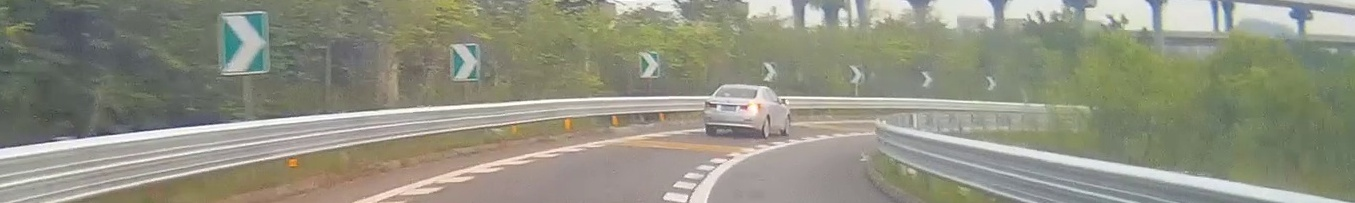L_light: (704, 101, 717, 108)
R_light: (741, 103, 761, 110)
T_light: (735, 88, 744, 91)
day-right: (703, 84, 762, 139)
